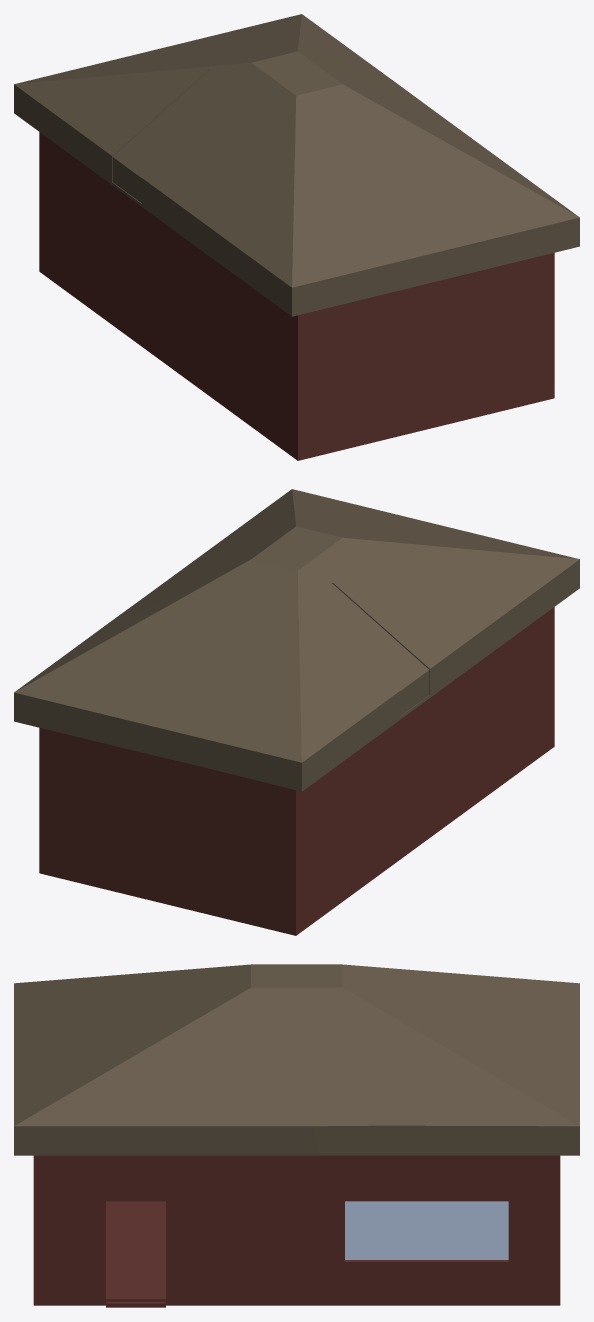
Rendered from House.fbx.
3 renders of one model, top to bottom at view 1: azimuth 30°, elevation 25°; view 2: azimuth 150°, elevation 25°; view 3: azimuth 270°, elevation 25°, orthographic.
Parts seen in each view (by area): view 1: House, HouseEscape; view 2: House, HouseEscape; view 3: House.
Part boxes in pixels (box(x1,y1,x2,y2)): House: box(14, 14, 579, 460); HouseEscape: box(112, 70, 239, 203); House: box(14, 489, 579, 935); HouseEscape: box(302, 583, 429, 716); House: box(14, 964, 579, 1307).
Bounding box in the file's own units: 688 × 597 × 1151.
